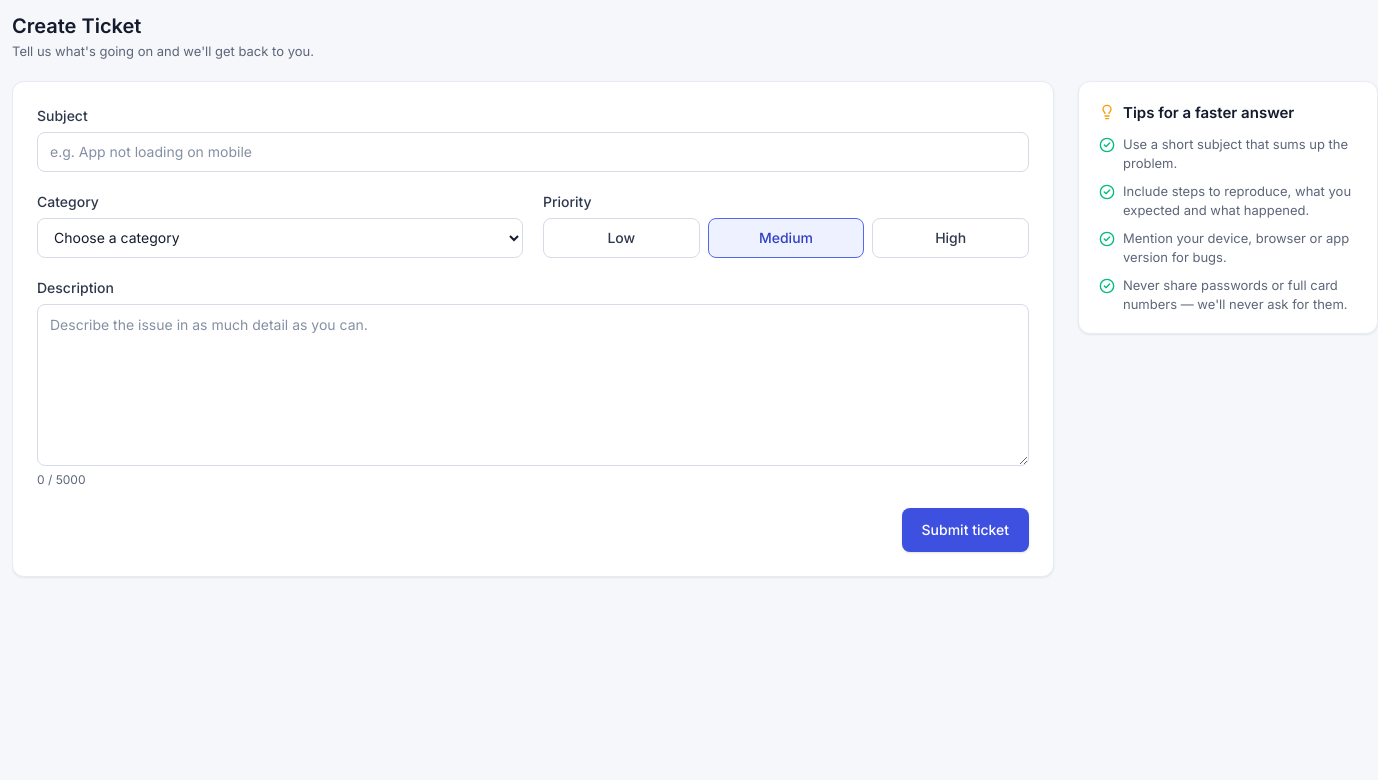
Test: CreateTicketPage › puts server-side field errors on the matching input
Type "Website not loading" into the field labelled "Subject" at coordinates (533, 152), box [37,132,1029,172]
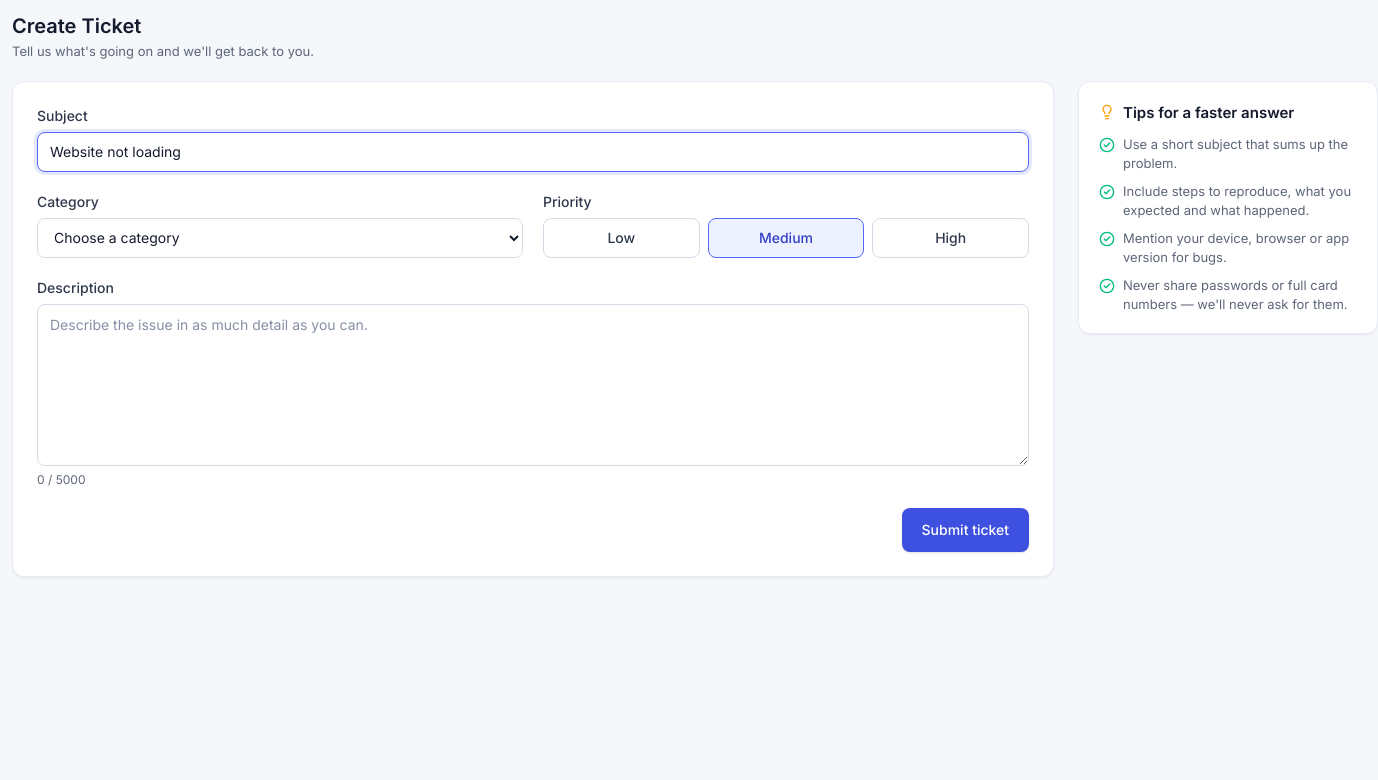
Select "Bug" in the dropdown labelled "Category" at coordinates (280, 238), box [37,218,523,258]
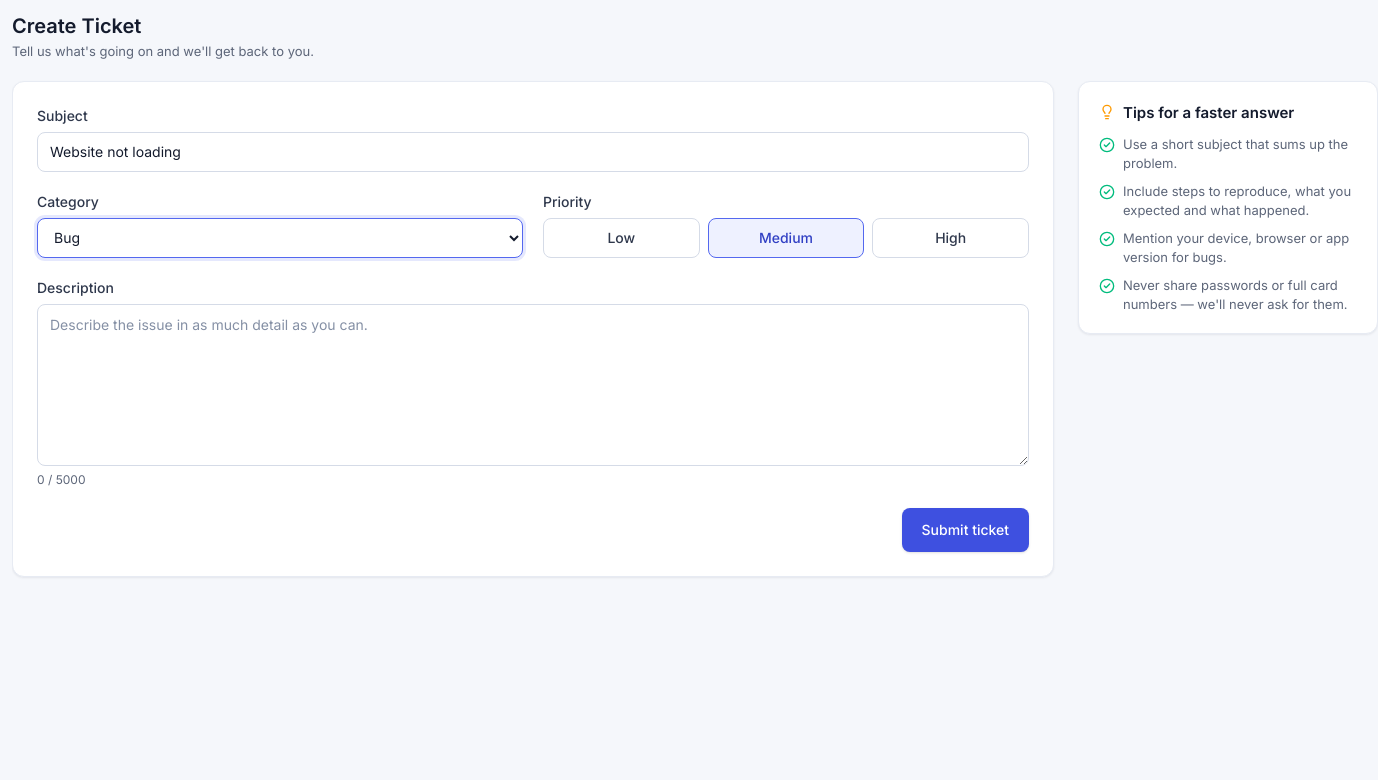
Type "The home page shows a blank screen." into the text box labelled "Description" at coordinates (533, 385), box [37,304,1029,466]
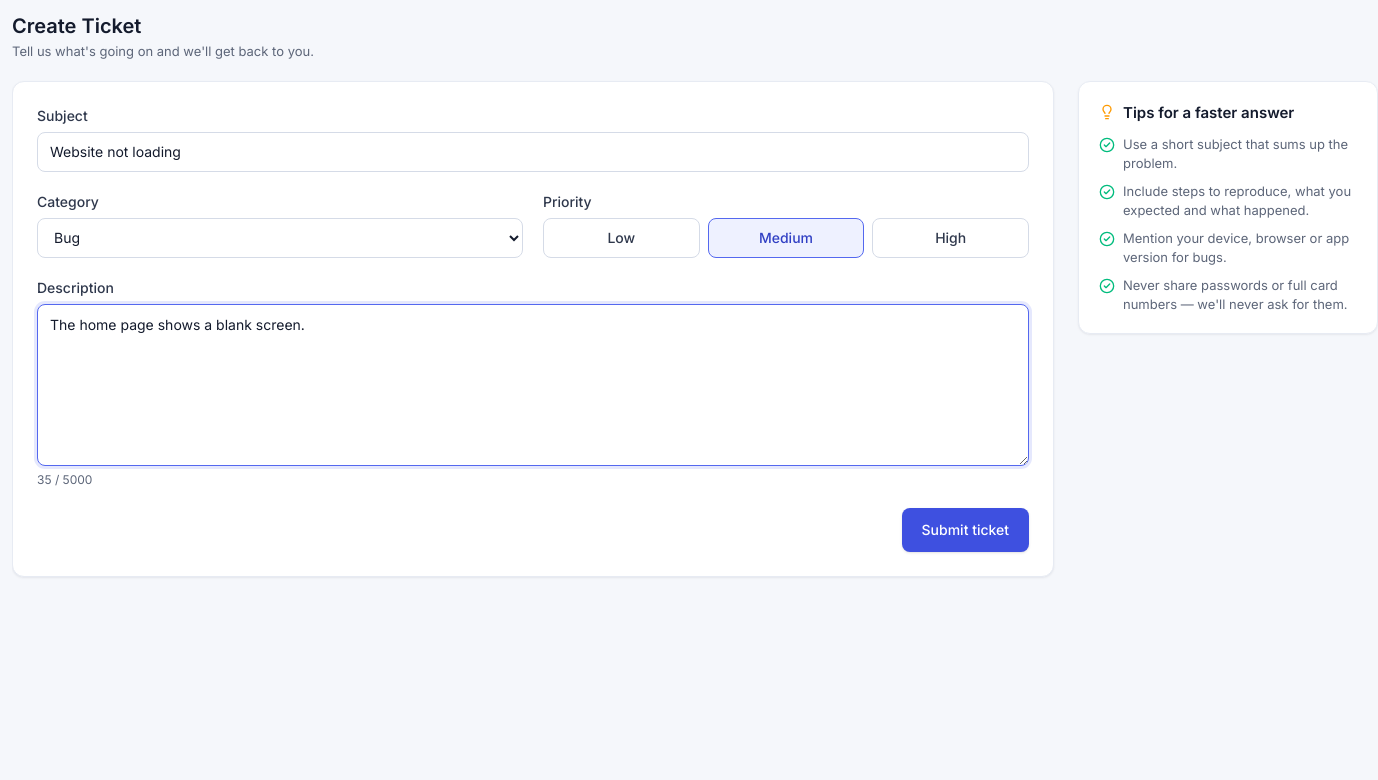
Click the button "Submit ticket" at coordinates (965, 530), box [902,508,1029,552]
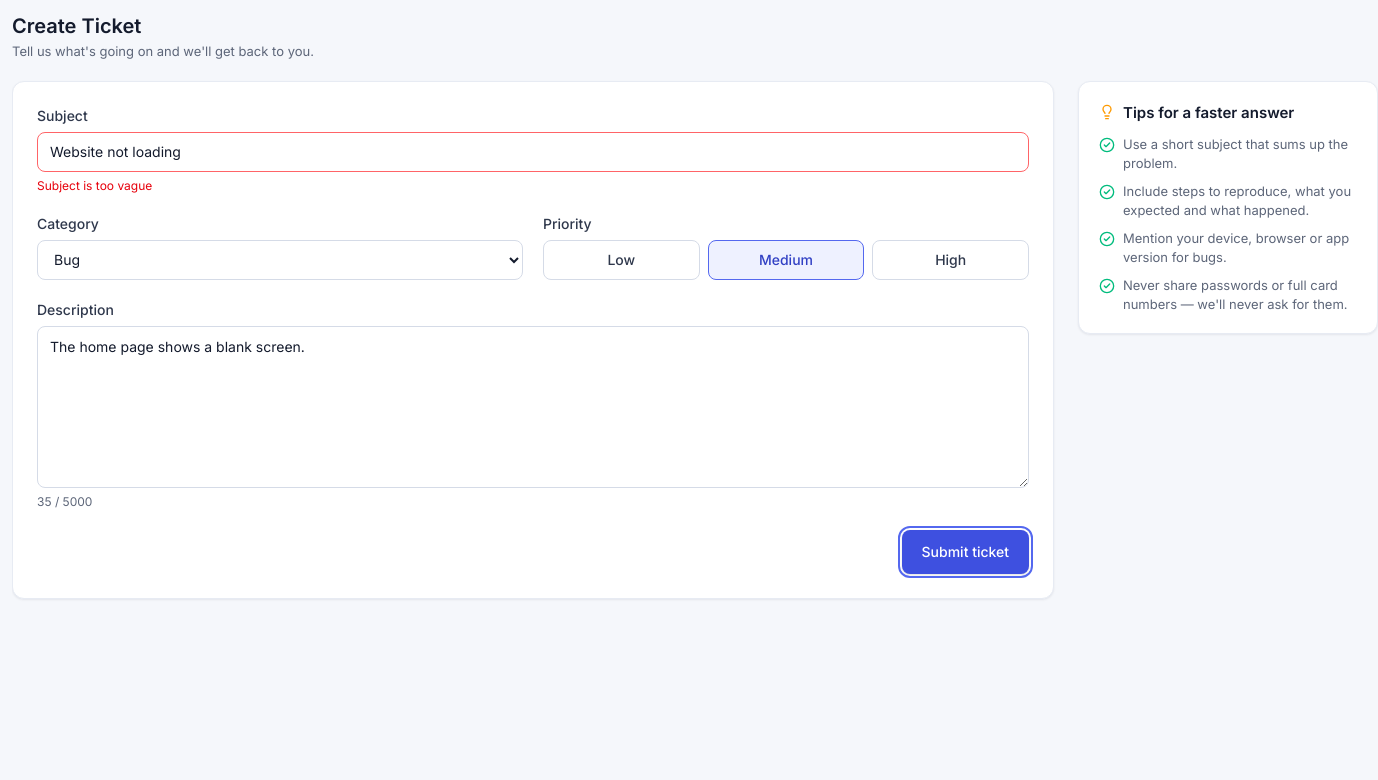
Expected: the text "Subject is too vague" is shown, [37,178,152,193]
